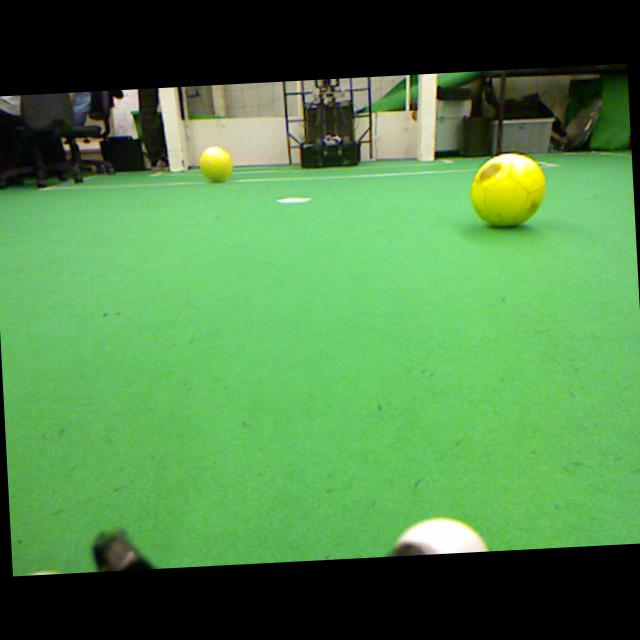ball: (471, 154, 546, 227), (198, 146, 232, 181)
goal: (159, 87, 183, 171), (422, 74, 436, 162)
robot: (300, 79, 360, 169)
